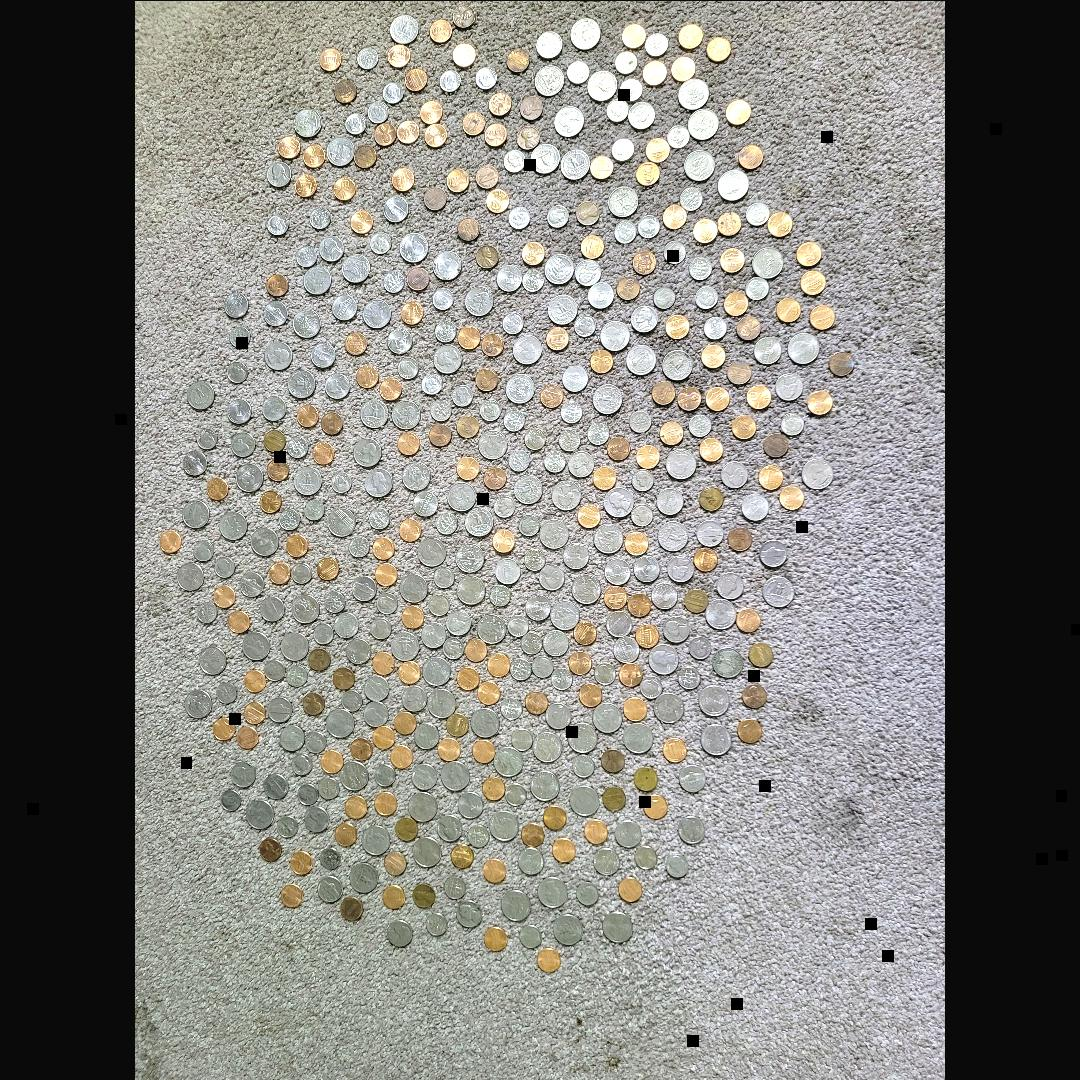Dime: (667, 124, 689, 148), (696, 284, 718, 308), (744, 277, 768, 299), (745, 203, 769, 225), (607, 98, 629, 121), (667, 852, 688, 876), (356, 46, 378, 68), (346, 112, 368, 134), (370, 232, 392, 254), (426, 912, 448, 934), (442, 636, 464, 658), (518, 513, 540, 535), (561, 400, 583, 422), (522, 270, 544, 292), (508, 206, 530, 228), (504, 149, 526, 171), (475, 67, 497, 89), (646, 33, 668, 55), (612, 138, 634, 160), (614, 220, 636, 242), (680, 187, 702, 209), (689, 256, 711, 278), (653, 286, 675, 308), (631, 504, 653, 526), (689, 636, 711, 658), (678, 666, 700, 688), (635, 846, 657, 868), (576, 882, 598, 904), (704, 316, 726, 338), (782, 413, 804, 435), (436, 320, 457, 342), (512, 728, 534, 749), (510, 659, 532, 680), (524, 548, 545, 570), (544, 450, 565, 472), (451, 384, 472, 406), (620, 78, 642, 99), (639, 215, 660, 237), (574, 314, 595, 336), (631, 410, 652, 432), (632, 468, 653, 490), (640, 676, 661, 698), (367, 100, 388, 121), (595, 662, 616, 683), (220, 788, 240, 810), (306, 730, 326, 752), (313, 621, 333, 643), (280, 508, 300, 530), (288, 436, 308, 458), (227, 360, 247, 382), (384, 270, 404, 292), (437, 512, 457, 534), (429, 593, 449, 615), (378, 592, 398, 614), (325, 590, 345, 612), (445, 876, 465, 898), (506, 783, 526, 805), (469, 825, 489, 847), (520, 924, 540, 946), (532, 656, 554, 676), (522, 631, 542, 653), (508, 614, 528, 636), (500, 698, 522, 718), (490, 584, 510, 606), (508, 450, 530, 470), (525, 427, 545, 449), (503, 312, 523, 334), (567, 62, 589, 82), (664, 241, 684, 263), (588, 422, 608, 444), (690, 414, 710, 436), (574, 754, 594, 776), (277, 814, 297, 835), (291, 754, 312, 774), (286, 666, 307, 686), (197, 428, 218, 448), (268, 214, 289, 234), (440, 70, 461, 90), (383, 81, 403, 102), (433, 287, 453, 308), (398, 357, 418, 378), (431, 400, 451, 421), (319, 777, 339, 798), (494, 495, 514, 516), (560, 429, 580, 450), (504, 410, 524, 431), (480, 399, 501, 419), (297, 784, 317, 804), (216, 682, 236, 702), (265, 659, 285, 679), (197, 602, 217, 622), (215, 557, 235, 577), (194, 540, 214, 560), (292, 562, 312, 582), (304, 498, 324, 518), (230, 326, 250, 346), (296, 246, 316, 266), (310, 207, 330, 227), (422, 373, 442, 393), (332, 471, 352, 491), (370, 508, 390, 528), (349, 536, 369, 556), (434, 566, 454, 586), (371, 618, 391, 638), (342, 690, 362, 710), (375, 764, 395, 784), (320, 848, 340, 868), (552, 668, 572, 688), (548, 206, 568, 226)
Nickel: (592, 848, 620, 874), (755, 335, 781, 362), (681, 763, 706, 791), (414, 722, 440, 748), (518, 847, 544, 873), (615, 820, 641, 846), (678, 816, 704, 842), (607, 610, 633, 636), (667, 555, 693, 581), (657, 487, 683, 513), (568, 450, 594, 476), (588, 282, 614, 308), (537, 31, 563, 57), (629, 102, 655, 128), (722, 461, 748, 487), (742, 493, 768, 519), (776, 372, 802, 398), (761, 540, 787, 566), (718, 572, 744, 598), (634, 557, 660, 582), (319, 876, 343, 902), (264, 772, 288, 798), (364, 675, 388, 701), (332, 294, 356, 320), (264, 300, 288, 326), (497, 264, 521, 290), (496, 558, 520, 584), (412, 763, 436, 789), (458, 791, 482, 817), (438, 814, 462, 840), (544, 629, 568, 655), (614, 635, 638, 661), (526, 594, 550, 620), (540, 564, 564, 590), (652, 582, 676, 608), (664, 616, 688, 642), (562, 366, 588, 390), (632, 305, 656, 331), (575, 260, 601, 284), (388, 919, 412, 945), (457, 900, 481, 926), (280, 725, 304, 750), (564, 542, 588, 567), (326, 372, 350, 397), (267, 162, 292, 186), (352, 574, 375, 600), (232, 762, 256, 786), (268, 697, 292, 721), (260, 596, 284, 620), (334, 612, 358, 636), (240, 572, 264, 596), (224, 292, 248, 316), (183, 449, 207, 473), (262, 396, 286, 420), (311, 342, 335, 366), (384, 196, 408, 220), (388, 329, 412, 353), (414, 490, 438, 514), (422, 622, 446, 646), (364, 701, 388, 725), (447, 610, 471, 634), (347, 638, 371, 662), (546, 704, 570, 728), (606, 559, 630, 583), (698, 520, 722, 544), (320, 236, 344, 260), (306, 806, 328, 832), (228, 398, 250, 422), (404, 686, 426, 710), (232, 432, 255, 454)
Penny: (482, 858, 508, 884), (766, 213, 792, 237), (692, 218, 718, 242), (776, 298, 802, 322), (760, 464, 783, 490), (576, 202, 600, 226), (475, 244, 499, 268), (662, 204, 686, 228), (666, 313, 690, 337), (720, 248, 744, 272), (800, 270, 824, 294), (736, 315, 760, 339), (694, 548, 718, 572), (664, 738, 688, 762), (601, 748, 625, 772), (602, 785, 626, 809), (584, 820, 608, 844), (727, 526, 750, 551), (778, 486, 804, 508), (698, 487, 724, 509), (626, 530, 648, 556), (341, 896, 364, 920), (622, 23, 646, 46), (706, 38, 730, 61), (646, 137, 670, 160), (726, 100, 750, 123), (590, 155, 614, 178), (809, 391, 833, 414), (724, 293, 748, 316), (660, 421, 684, 444), (749, 642, 772, 666), (634, 623, 658, 646), (572, 622, 596, 645), (543, 806, 566, 830), (746, 386, 771, 408), (472, 740, 495, 763), (718, 212, 741, 235), (652, 381, 675, 404), (578, 505, 601, 528), (623, 697, 646, 720), (159, 530, 181, 554), (259, 838, 281, 862), (407, 266, 429, 290), (458, 324, 480, 348), (375, 562, 397, 586), (488, 652, 510, 676), (457, 666, 479, 690), (394, 710, 416, 734), (335, 822, 357, 846), (384, 851, 406, 875), (450, 844, 472, 868), (411, 884, 435, 906), (484, 926, 506, 950), (483, 776, 505, 800), (522, 241, 544, 265), (516, 126, 540, 148), (506, 48, 530, 70), (484, 122, 506, 146), (424, 186, 446, 210), (425, 124, 447, 148), (386, 44, 410, 66), (392, 166, 414, 190), (678, 25, 702, 47), (636, 163, 660, 185), (581, 234, 603, 258), (740, 145, 764, 167), (796, 243, 820, 265), (810, 306, 834, 328), (830, 352, 854, 374), (606, 437, 630, 459), (637, 444, 659, 468), (732, 416, 756, 438), (764, 434, 788, 456), (684, 589, 708, 611), (736, 609, 760, 631), (744, 684, 766, 708), (738, 720, 762, 742), (604, 584, 626, 608), (568, 651, 592, 673), (620, 662, 642, 686), (634, 767, 658, 789), (536, 948, 560, 970), (520, 94, 542, 118), (318, 558, 340, 581), (374, 791, 396, 814), (545, 328, 568, 350), (487, 190, 509, 213), (430, 19, 452, 42), (453, 44, 476, 66), (446, 170, 468, 193), (406, 67, 428, 90), (672, 57, 694, 80), (644, 62, 667, 84), (590, 351, 612, 374), (702, 344, 725, 366), (594, 466, 617, 488), (580, 682, 602, 705), (644, 796, 667, 818), (620, 878, 642, 901), (447, 712, 468, 736), (206, 478, 228, 500), (245, 670, 267, 692), (302, 691, 324, 713), (308, 648, 330, 670), (332, 667, 354, 689), (286, 534, 308, 556), (266, 458, 288, 480), (297, 404, 319, 426), (346, 332, 368, 354), (356, 365, 378, 387), (457, 416, 479, 438), (429, 423, 451, 445), (398, 431, 420, 453), (484, 467, 506, 489), (492, 529, 514, 551), (372, 537, 394, 559), (402, 606, 424, 628), (465, 639, 487, 661), (478, 681, 500, 703), (345, 796, 367, 818), (396, 818, 418, 840), (281, 884, 303, 906), (438, 738, 460, 760), (390, 745, 412, 767), (541, 385, 563, 407), (476, 165, 498, 187), (452, 5, 474, 27), (489, 92, 511, 114), (463, 112, 485, 134), (421, 100, 443, 122), (320, 48, 342, 70), (334, 80, 356, 102), (374, 122, 396, 144), (354, 145, 376, 167), (333, 177, 355, 199), (350, 211, 372, 233), (303, 145, 325, 167), (633, 252, 655, 274), (728, 361, 750, 383), (707, 388, 729, 410), (678, 387, 700, 409), (700, 438, 722, 460), (629, 594, 651, 616), (525, 691, 547, 713), (522, 824, 544, 846), (458, 457, 479, 480), (322, 750, 342, 774), (291, 850, 311, 874), (400, 518, 421, 540), (374, 726, 395, 748), (458, 218, 480, 239), (397, 120, 418, 142), (296, 175, 318, 196), (278, 136, 300, 157), (618, 277, 639, 299), (237, 726, 257, 749), (381, 377, 401, 400), (214, 584, 234, 606), (244, 702, 266, 722), (214, 717, 234, 739), (261, 490, 281, 512), (264, 430, 286, 450), (322, 412, 342, 434), (313, 442, 333, 464), (483, 333, 503, 355), (476, 370, 498, 390), (373, 652, 395, 672), (351, 739, 373, 759), (384, 886, 404, 908), (554, 839, 574, 861), (399, 661, 419, 682), (229, 611, 249, 631), (270, 562, 290, 582), (402, 303, 422, 323), (266, 276, 288, 294)
Quarter: (802, 458, 834, 488), (788, 333, 820, 363), (752, 247, 784, 277), (684, 149, 716, 179), (570, 18, 600, 48), (599, 320, 629, 350), (608, 186, 638, 216), (512, 334, 542, 364), (604, 486, 634, 516), (654, 692, 684, 722), (713, 646, 743, 676), (706, 598, 736, 628), (763, 576, 793, 606), (662, 349, 692, 379), (718, 170, 748, 200), (689, 108, 719, 138), (678, 79, 708, 109), (554, 912, 582, 944), (588, 70, 617, 100), (490, 810, 518, 840), (503, 889, 531, 919), (570, 784, 598, 814), (350, 862, 378, 892), (390, 13, 418, 43), (536, 65, 564, 95), (556, 106, 584, 136), (561, 149, 589, 179), (400, 232, 428, 262), (545, 253, 573, 283), (628, 344, 656, 374), (593, 384, 621, 414), (666, 449, 696, 477), (659, 521, 687, 551), (553, 479, 581, 509), (572, 574, 602, 602), (650, 644, 678, 674), (623, 722, 651, 752), (568, 722, 596, 752), (533, 732, 561, 762), (414, 836, 442, 866), (531, 770, 559, 800), (604, 911, 632, 941), (539, 876, 567, 906), (702, 724, 730, 754), (700, 685, 728, 715), (434, 344, 462, 374), (540, 518, 568, 548), (549, 294, 577, 323), (506, 374, 534, 403), (494, 746, 522, 774), (362, 825, 390, 853), (242, 631, 270, 659), (292, 595, 320, 623), (182, 500, 210, 528), (294, 466, 322, 494), (327, 507, 355, 535), (392, 400, 420, 428), (360, 398, 388, 426), (264, 341, 292, 369), (293, 308, 321, 336), (294, 107, 322, 135), (326, 136, 354, 164), (362, 299, 390, 327), (531, 144, 559, 172), (433, 251, 461, 279), (479, 430, 507, 458), (595, 524, 623, 552), (514, 474, 542, 502), (456, 543, 484, 571), (551, 600, 579, 628), (593, 703, 621, 731), (471, 708, 499, 736), (442, 761, 470, 789), (478, 614, 506, 642), (366, 466, 392, 496), (184, 691, 212, 718), (328, 708, 355, 736), (354, 437, 382, 464), (466, 287, 493, 315), (404, 461, 431, 489), (448, 482, 475, 510), (410, 792, 436, 821), (252, 527, 278, 555), (200, 646, 226, 674), (341, 762, 369, 788), (247, 800, 273, 828), (177, 562, 203, 590), (220, 512, 248, 538), (236, 463, 262, 491), (287, 370, 315, 396), (304, 266, 330, 294), (344, 254, 370, 282), (466, 508, 494, 534), (418, 537, 444, 565), (458, 575, 484, 603), (423, 658, 451, 684), (428, 688, 454, 716), (401, 573, 427, 601), (282, 632, 308, 658), (392, 632, 418, 658), (188, 381, 214, 407)
